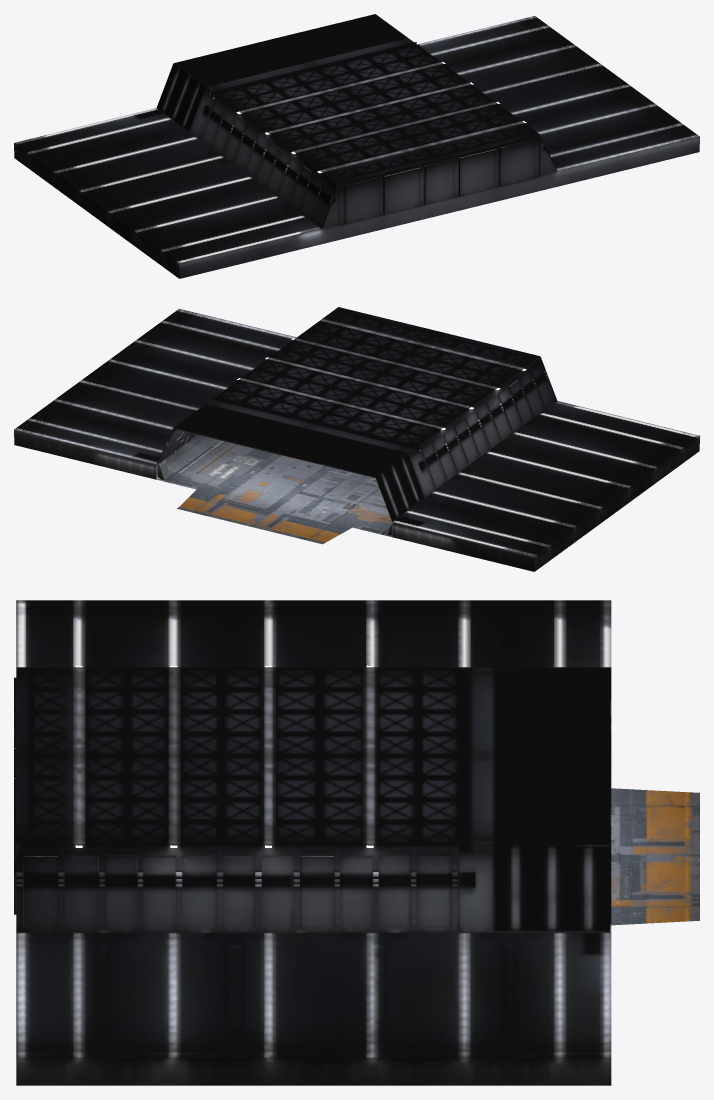
The model's file is hangar.fbx.
The picture shows the model from 3 angles, top to bottom: view 1: azimuth 30°, elevation 25°; view 2: azimuth 150°, elevation 25°; view 3: azimuth 270°, elevation 25°; orthographic projection. The views are drawn at different scales.
Parts seen in each view (by area): view 1: Cube.003; view 2: Cube.003; view 3: Cube.003.
Boxes of the visible parts, x1,y1,x2,y2 form: Cube.003: (14, 14, 699, 278); Cube.003: (14, 307, 699, 571); Cube.003: (14, 600, 699, 1085).
Bounding box in the file's own units: 18106 × 1863 × 11465.
Materials: 1 (1 with a texture image).
